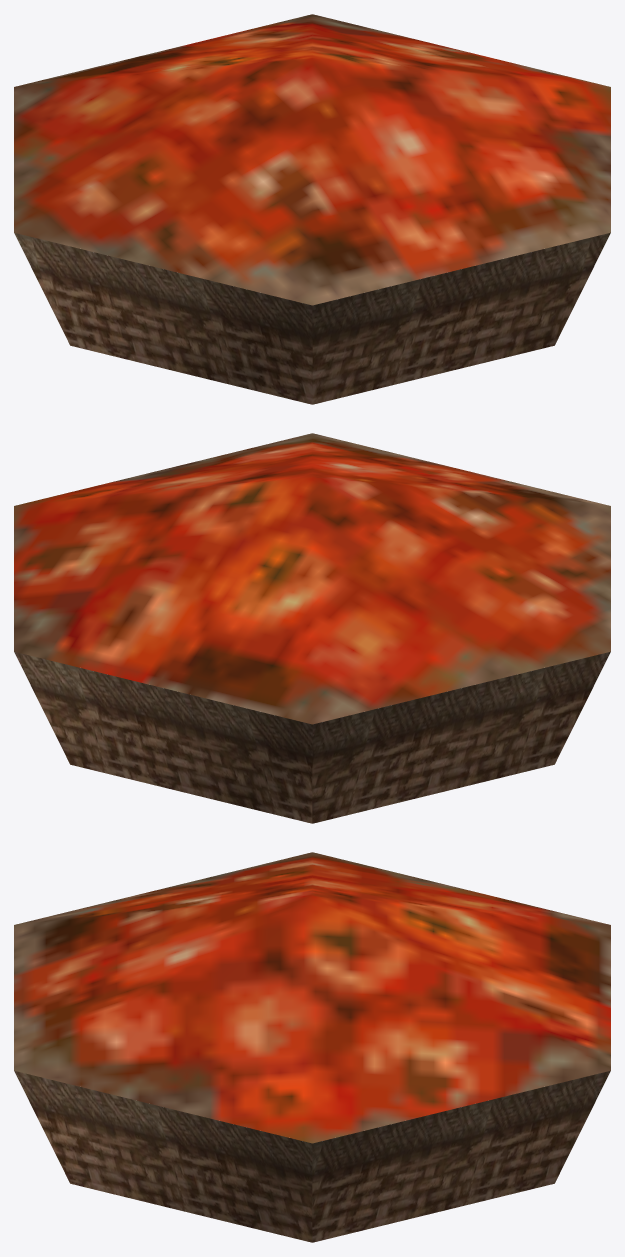
The model's file is euro_fushop05.glb.
3 renders of one model, top to bottom at view 1: azimuth 30°, elevation 25°; view 2: azimuth 150°, elevation 25°; view 3: azimuth 270°, elevation 25°, orthographic.
Parts seen in each view (by area): view 1: euro_fushop05; view 2: euro_fushop05; view 3: euro_fushop05.
Boxes of the visible parts, bbox=[...] form: euro_fushop05: bbox=[14, 14, 610, 404]; euro_fushop05: bbox=[14, 433, 610, 823]; euro_fushop05: bbox=[14, 852, 610, 1242].
Size of the model in its own units: 1.71 by 0.626 by 1.48.
Materials: 2 (2 with a texture image).
